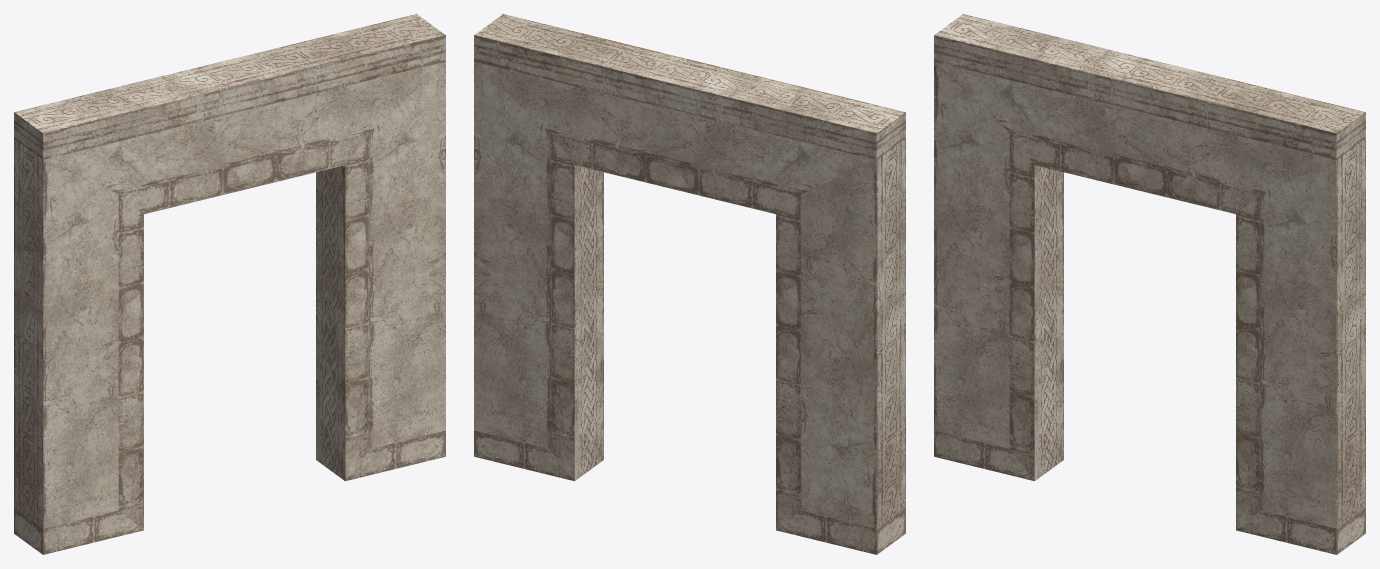
The model's file is NMerritt_Wall_Door_B_Fancy_Textured.fbx.
3 renders of one model, left to right at view 1: azimuth 30°, elevation 25°; view 2: azimuth 150°, elevation 25°; view 3: azimuth 330°, elevation 25°, orthographic.
Parts seen in each view (by area): view 1: NMerritt_Wall_Door-B; view 2: NMerritt_Wall_Door-B; view 3: NMerritt_Wall_Door-B.
Part boxes in pixels (x1=…): NMerritt_Wall_Door-B: x1=14, y1=14, x2=445, y2=554; NMerritt_Wall_Door-B: x1=474, y1=14, x2=905, y2=554; NMerritt_Wall_Door-B: x1=934, y1=14, x2=1365, y2=554.
Bounding box in the file's own units: 400 × 50 × 400.
